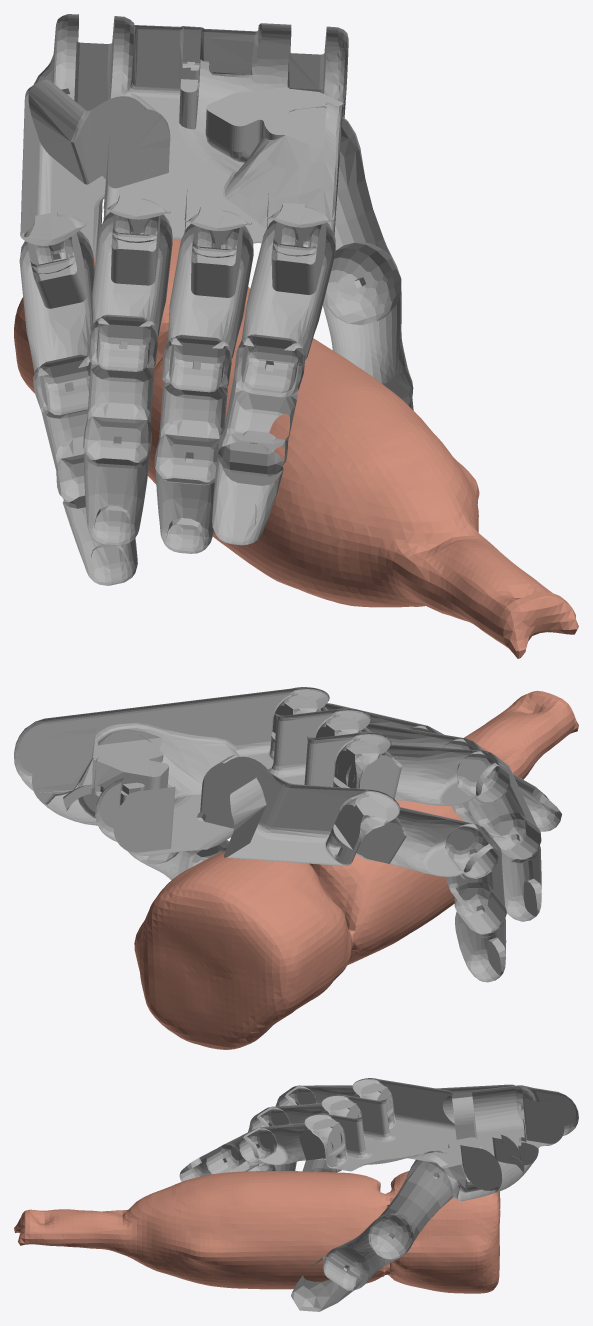
3 renders of one model, top to bottom at view 1: azimuth 30°, elevation 25°; view 2: azimuth 150°, elevation 25°; view 3: azimuth 270°, elevation 25°, orthographic. The views are drawn at different scales.
Parts seen in each view (by area): view 1: world; view 2: world; view 3: world.
Boxes of the visible parts, x1,y1,x2,y2 form: world: (14, 14, 578, 658); world: (14, 687, 578, 1049); world: (14, 1078, 578, 1311).
Size of the model in its own units: 0.9303 by 0.7027 by 1.81.
